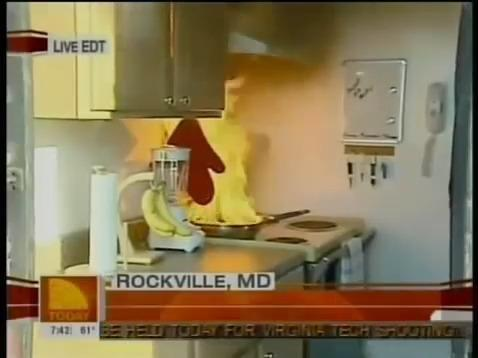fire: (163, 115, 266, 224), (227, 73, 265, 117)
